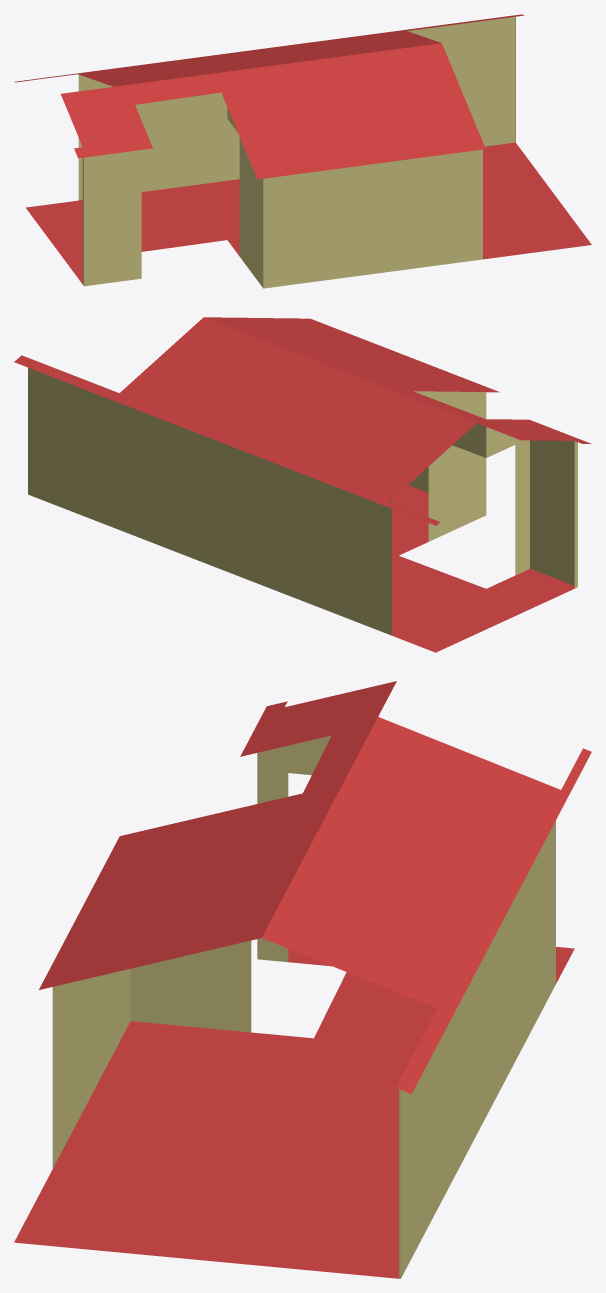
3 renders of one model, top to bottom at view 1: azimuth 30°, elevation 25°; view 2: azimuth 150°, elevation 25°; view 3: azimuth 270°, elevation 25°, orthographic. The views are drawn at different scales.
Size of the model in its own units: 30.66 by 20.09 by 9.62.
